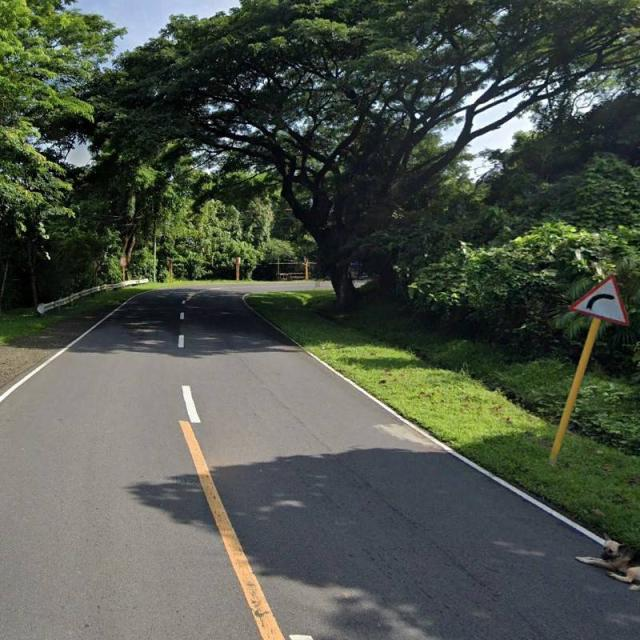warn_right_curve: (567, 275, 629, 327)
